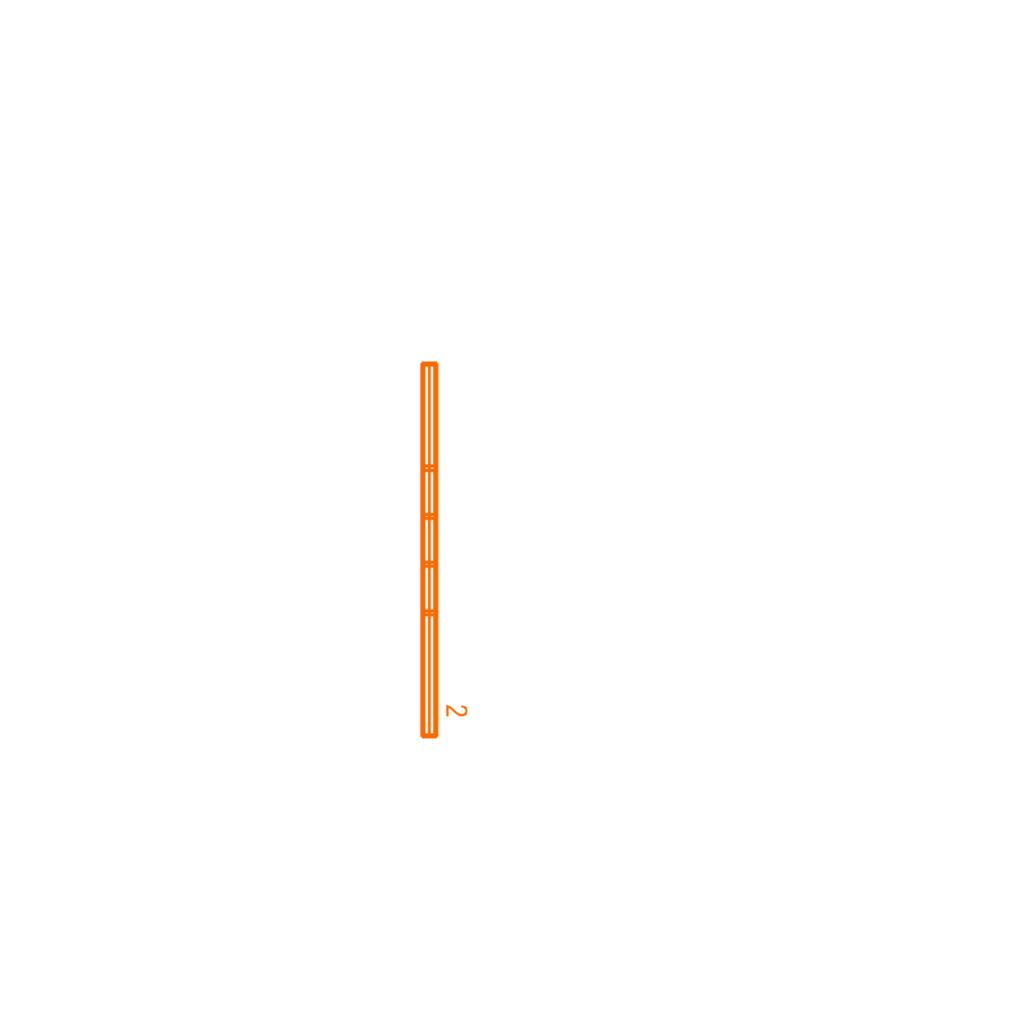Ambulanz_Pendelleuchte_LED: (414, 356, 470, 743)
